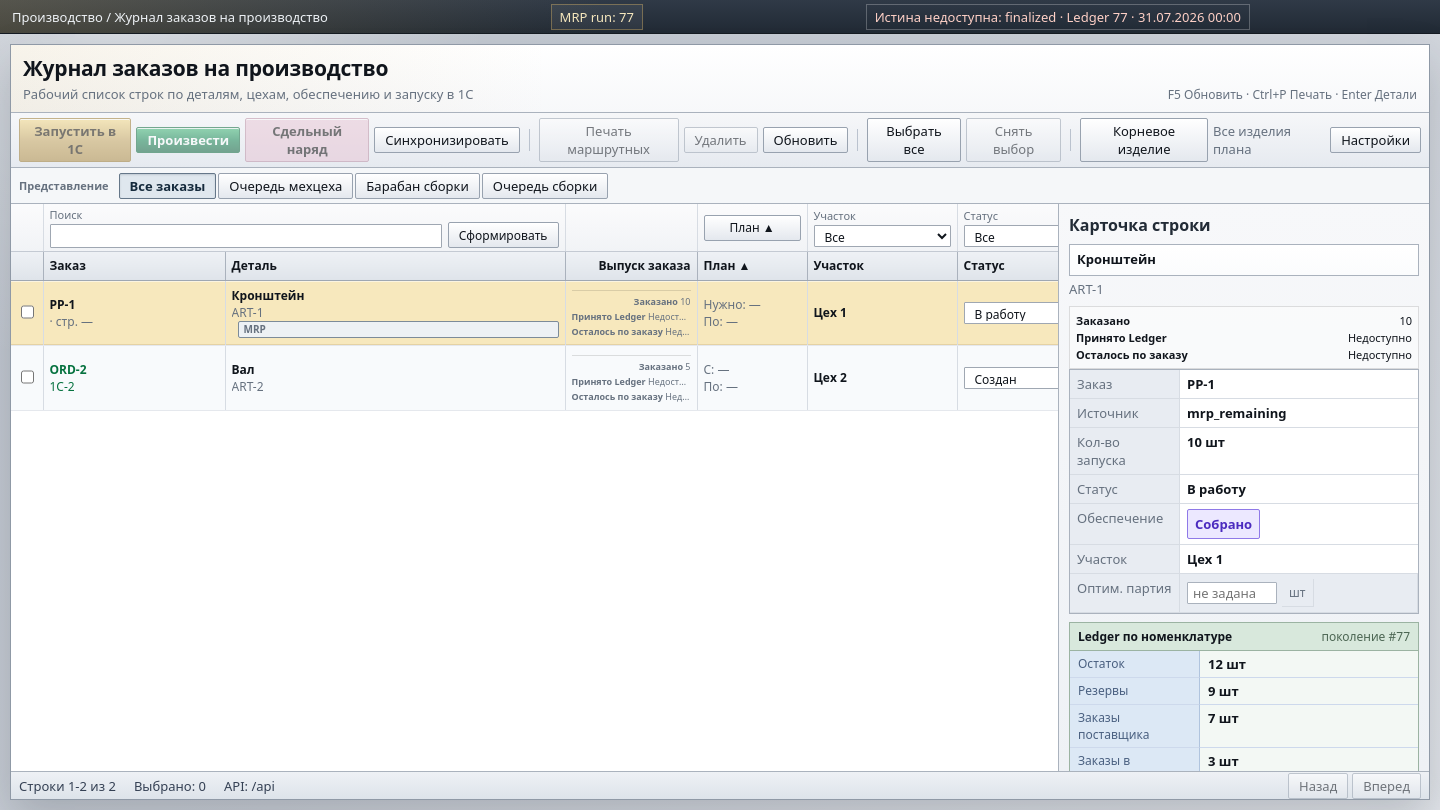
Test: ProductionControlPage — characterization › shows canonical plan output facts supplied by the drum read model without client arithmetic
Expected: the text "Вал" is shown, [232,360,255,378]
Click the button "Барабан сборки": (418, 186) [355,172,480,198]
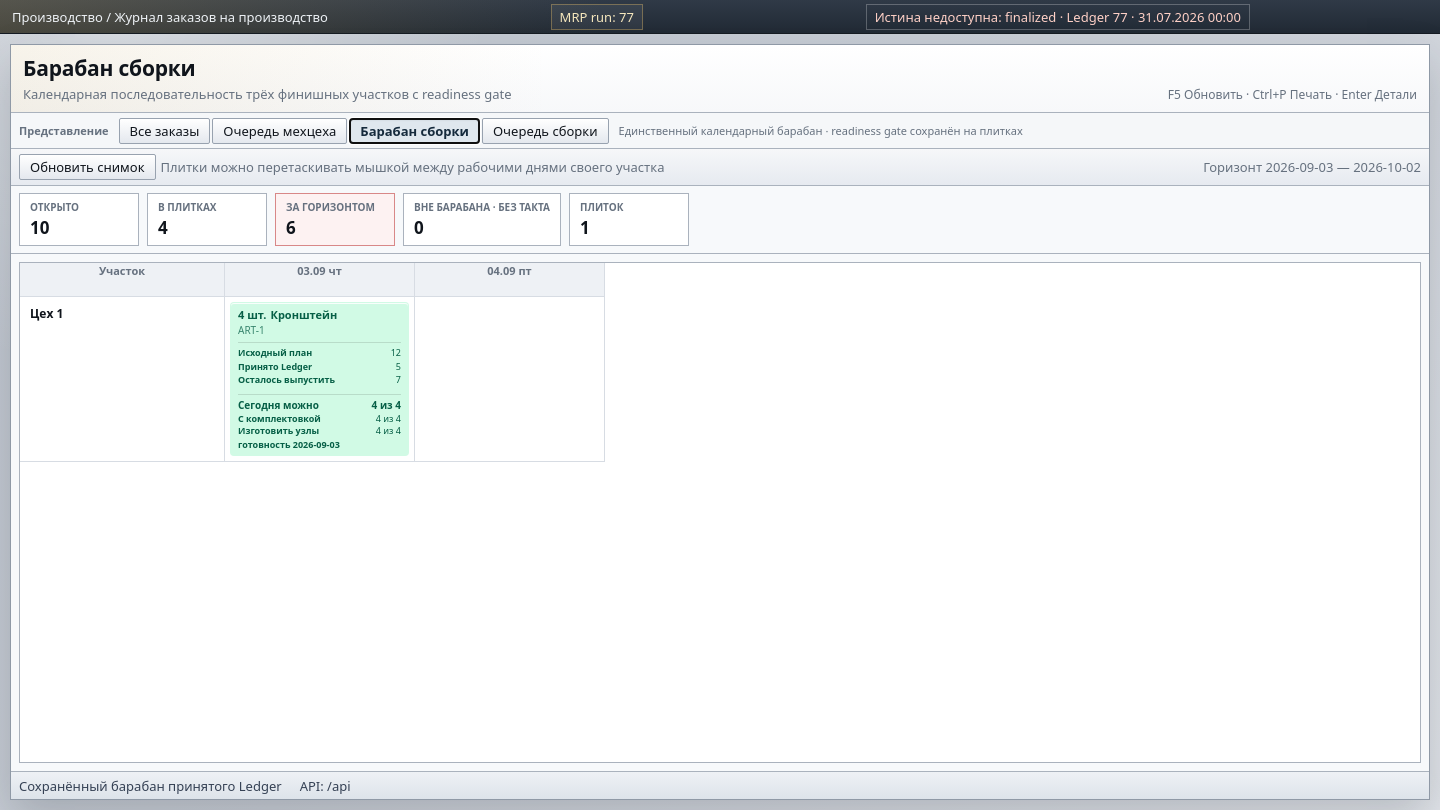
Now the button with aria-label "Кронштейн: 4 шт., Можно собирать сейчас" shows "Исходный план 12"
Now the button with aria-label "Кронштейн: 4 шт., Можно собирать сейчас" shows "Принято Ledger 5"
Now the button with aria-label "Кронштейн: 4 шт., Можно собирать сейчас" shows "Осталось выпустить 7"
Click the button with aria-label "Кронштейн: 4 шт., Можно собирать сейчас": (320, 379) [230,302,409,456]
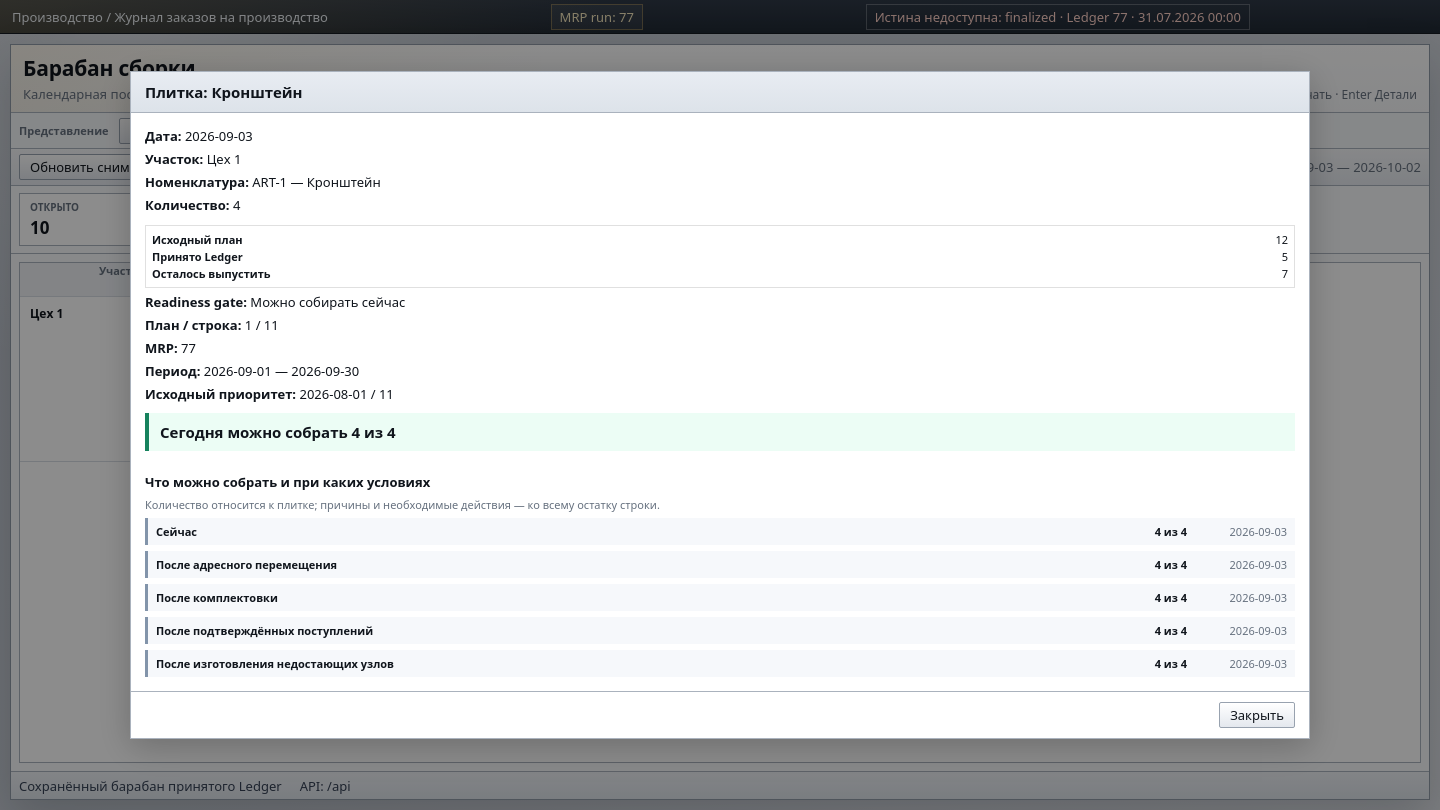
Now the dialog "Плитка: Кронштейн" shows "Принято Ledger 5"
Now the dialog "Плитка: Кронштейн" shows "MRP: 77"
Now the dialog "Плитка: Кронштейн" shows "Период: 2026-09-01 — 2026-09-30"
